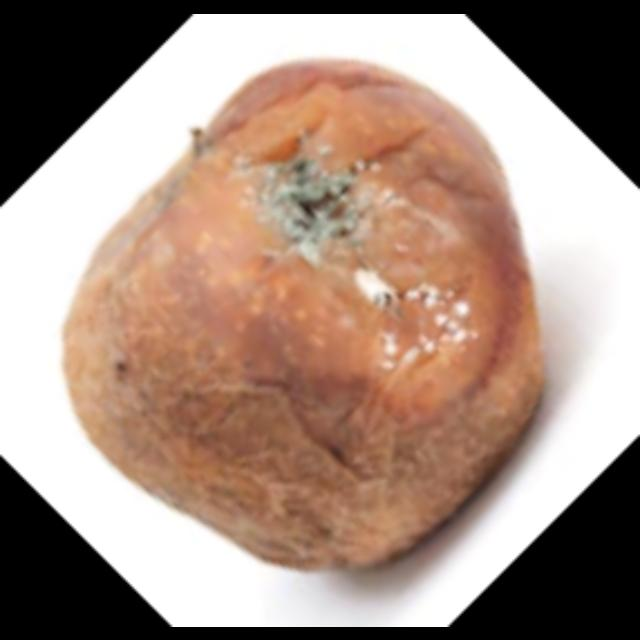Apel Tidak Segar: (46, 53, 553, 572)
